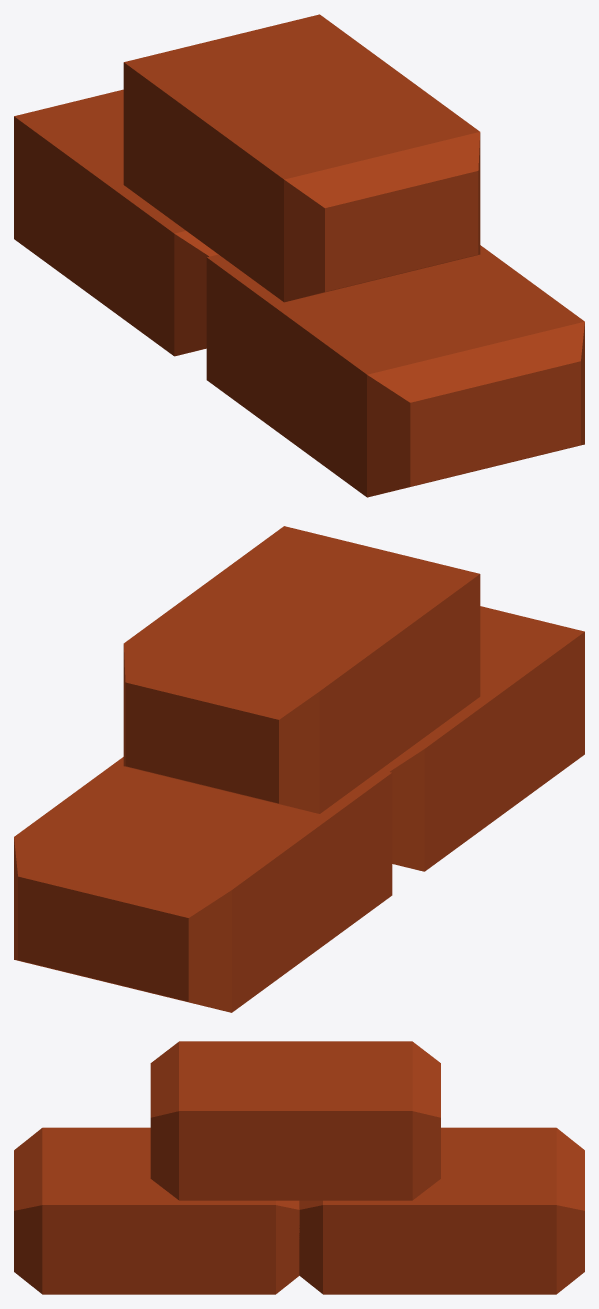
The model's file is Bricks.fbx.
3 renders of one model, top to bottom at view 1: azimuth 30°, elevation 25°; view 2: azimuth 150°, elevation 25°; view 3: azimuth 270°, elevation 25°, orthographic. The views are drawn at different scales.
Parts seen in each view (by area): view 1: Cegla.002, Cegla, Cegla.001; view 2: Cegla.002, Cegla.001, Cegla; view 3: Cegla.002, Cegla.001, Cegla.
Part boxes in pixels (left/top/right/bottom): Cegla.002: left=123, top=14, right=480, bottom=302; Cegla: left=206, top=245, right=584, bottom=497; Cegla.001: left=14, top=89, right=218, bottom=356; Cegla.002: left=123, top=526, right=480, bottom=813; Cegla.001: left=14, top=757, right=392, bottom=1012; Cegla: left=380, top=606, right=584, bottom=871; Cegla.002: left=150, top=1041, right=440, bottom=1200; Cegla.001: left=299, top=1127, right=584, bottom=1294; Cegla: left=14, top=1127, right=299, bottom=1294.
Bounding box in the file's own units: 147 × 159 × 459.
